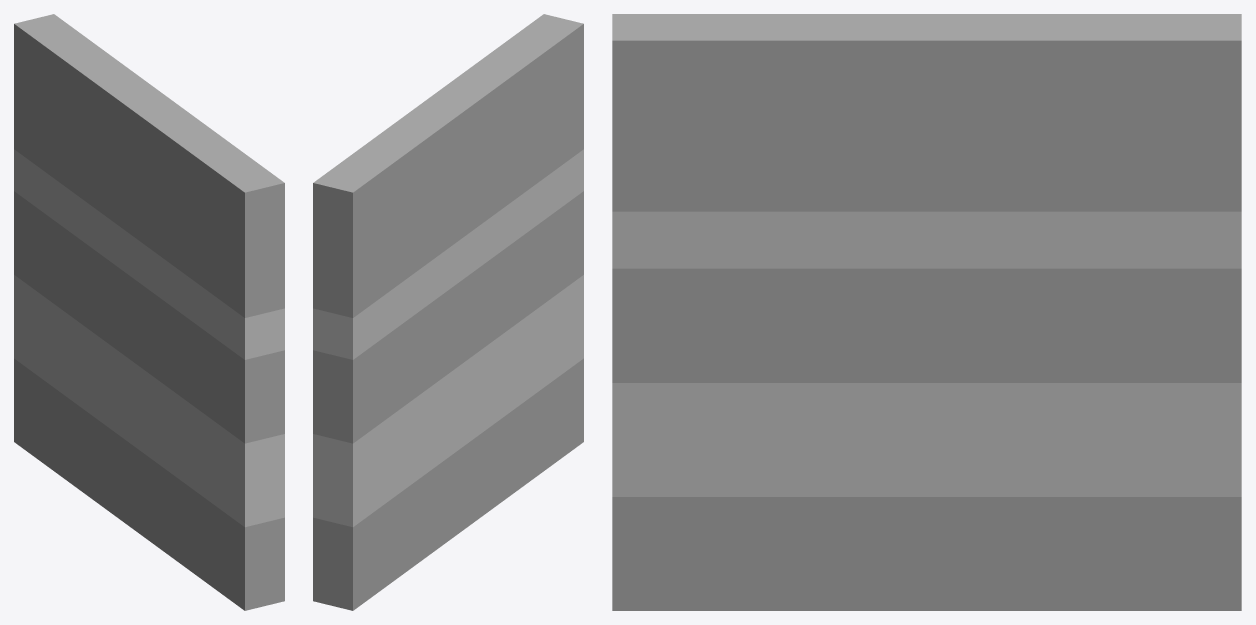
File: dirt_wall_C_10.obj
3 renders of one model, left to right at view 1: azimuth 30°, elevation 25°; view 2: azimuth 150°, elevation 25°; view 3: azimuth 270°, elevation 25°, orthographic. The views are drawn at different scales.
Bounding box in the file's own units: 0.1 × 1 × 1.
1 material, 1 textured.
